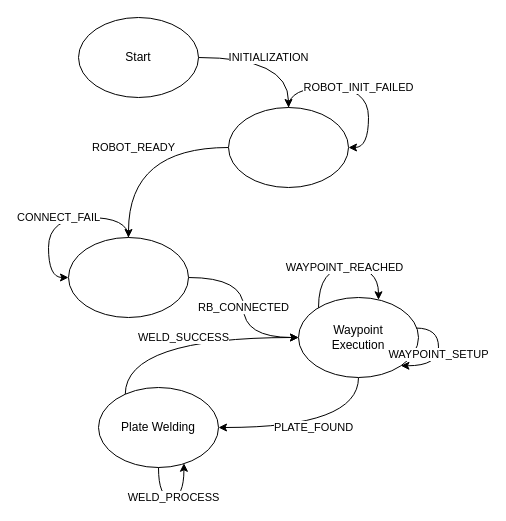
Some shapes in this 506 by 521 pixel diagram are drawn without their labels. Each missing label, with the centre of its shape:
"Rhinobond Connection" goes at [128,277].
"Robot Initialization" goes at [288,147].
